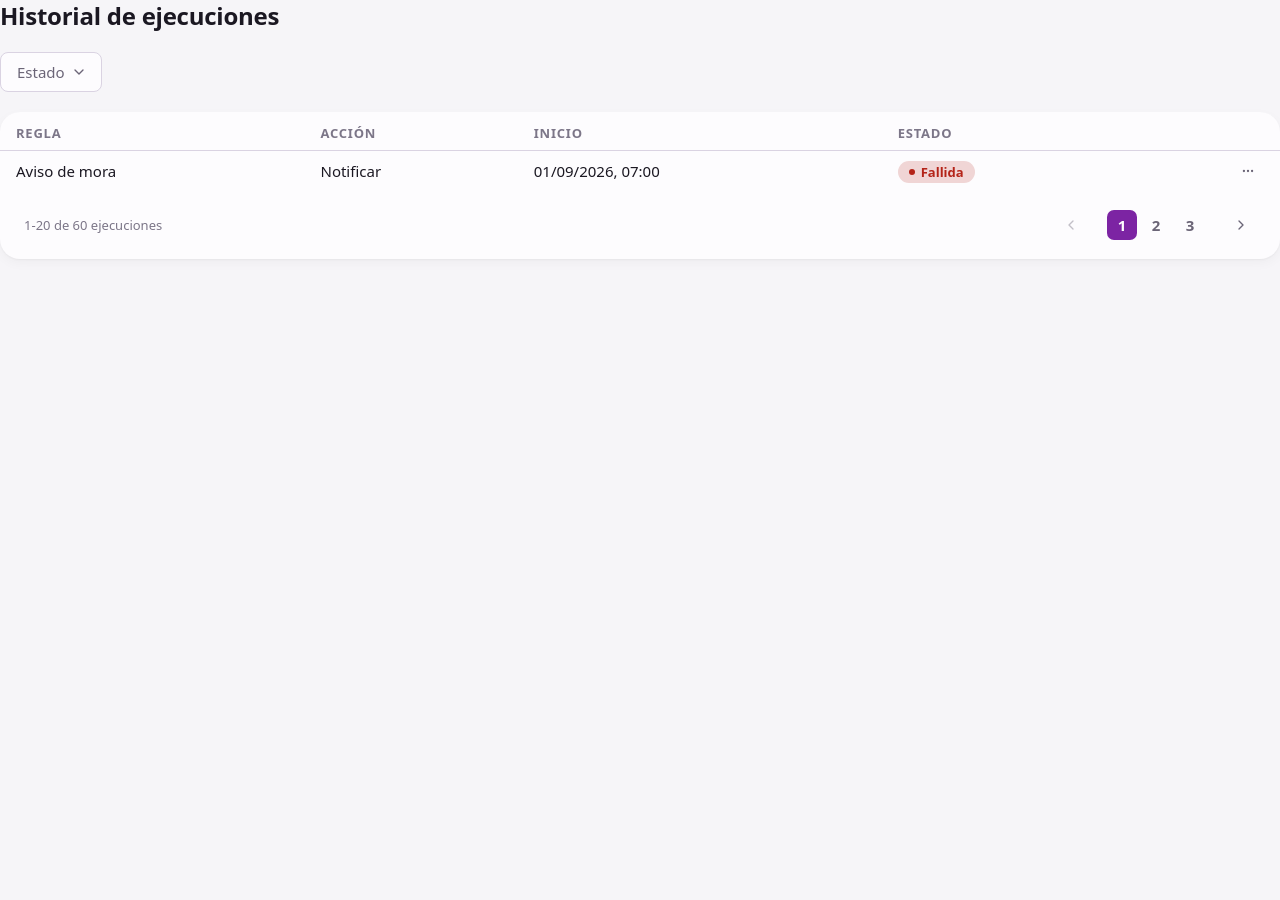
Test: EjecucionesWorkflowPage › abre el detalle de una ejecución
What coordinates should you click on to do the following:
click the button named "Acciones para "
I would click on:
 (1248, 171)
Its box is [1232, 155, 1264, 187].
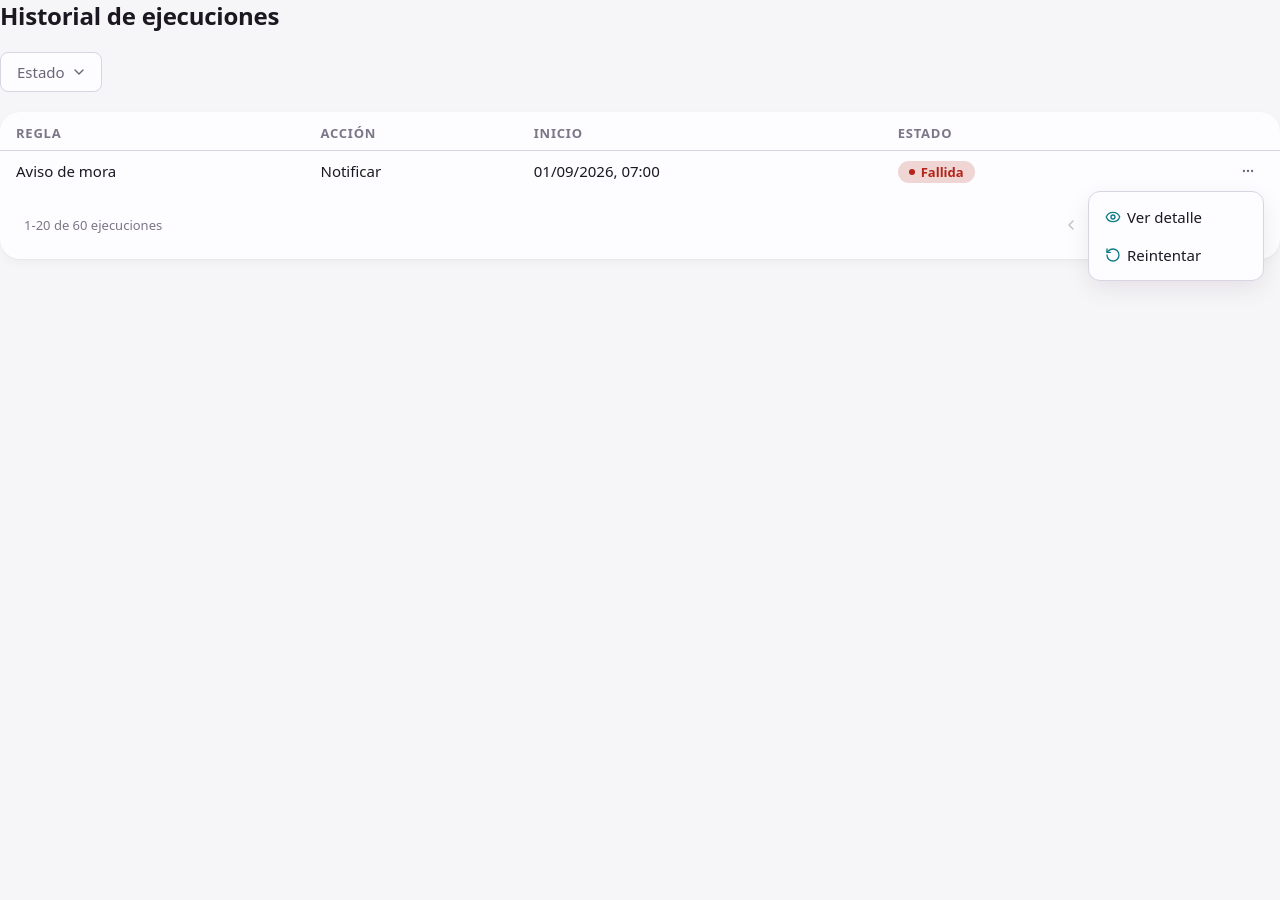
What coordinates should you click on to do the following:
click the menu item "Ver detalle"
I would click on:
 (1154, 217)
Its box is [1105, 207, 1202, 227].
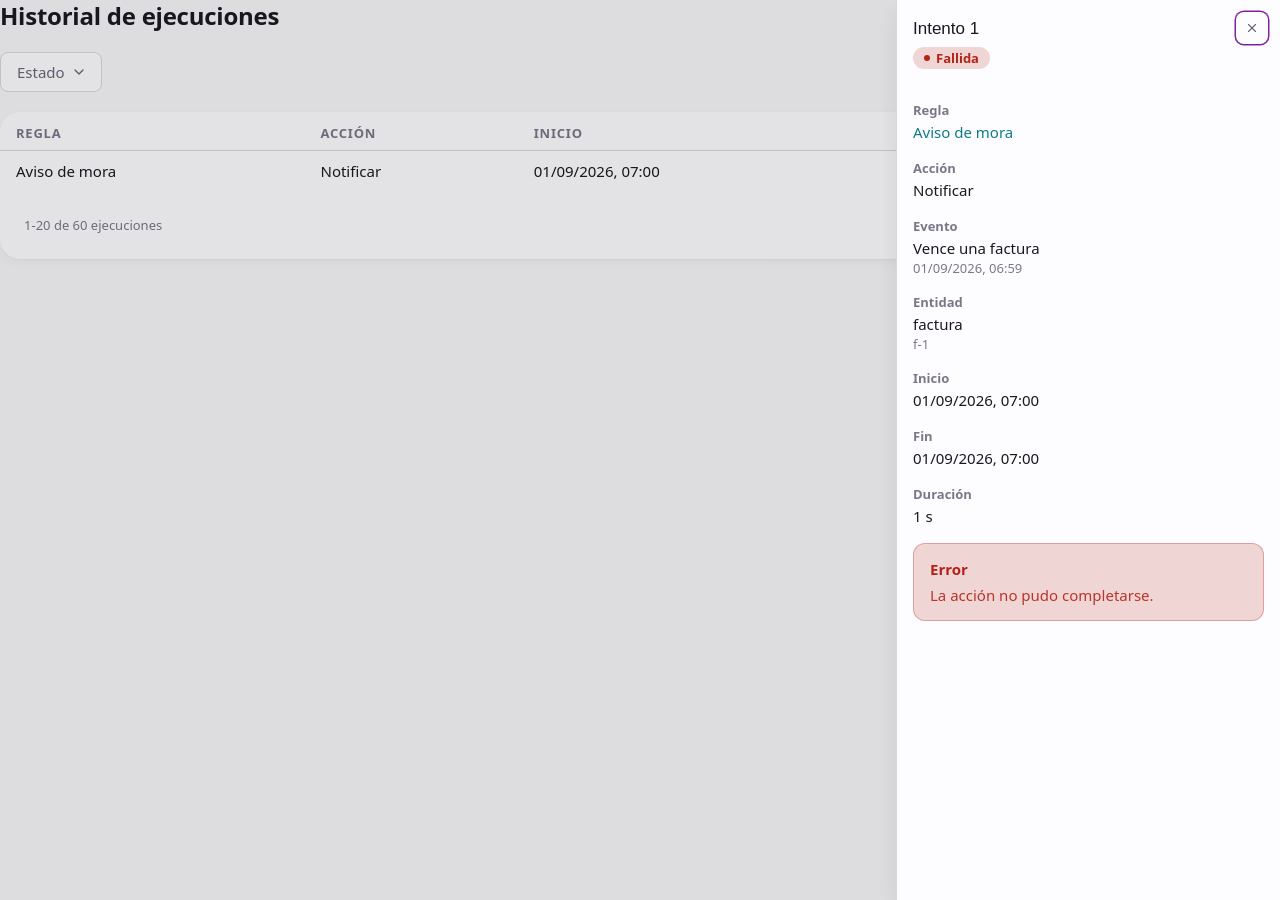
Expected: the dialog shows "La acción no pudo completarse.", [930, 585, 1154, 605]
